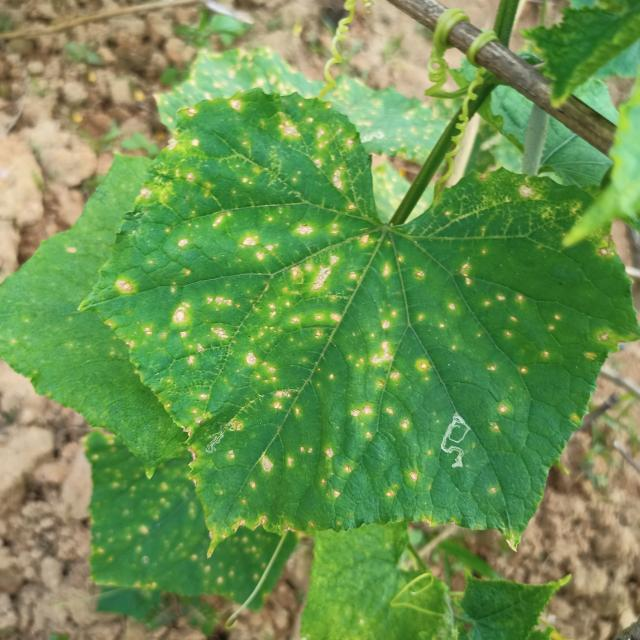disease_cucumber: (136, 108, 589, 542)
